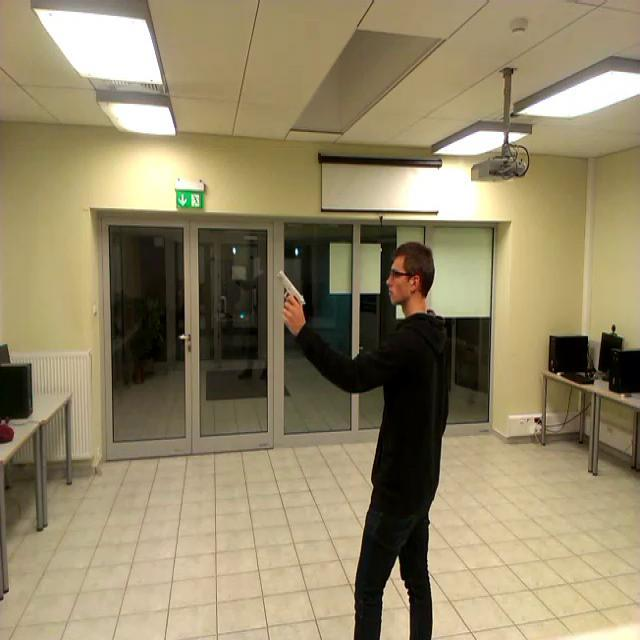Gun: (278, 268, 307, 314)
